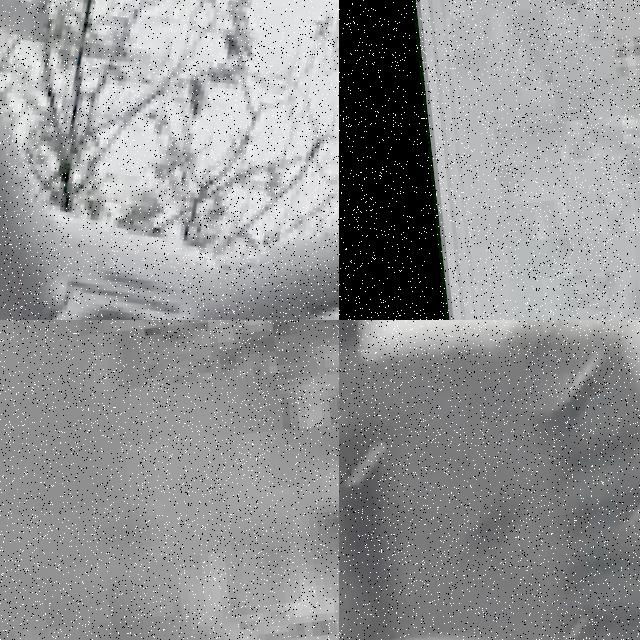drone: (0, 0, 339, 320), (339, 320, 640, 640)
